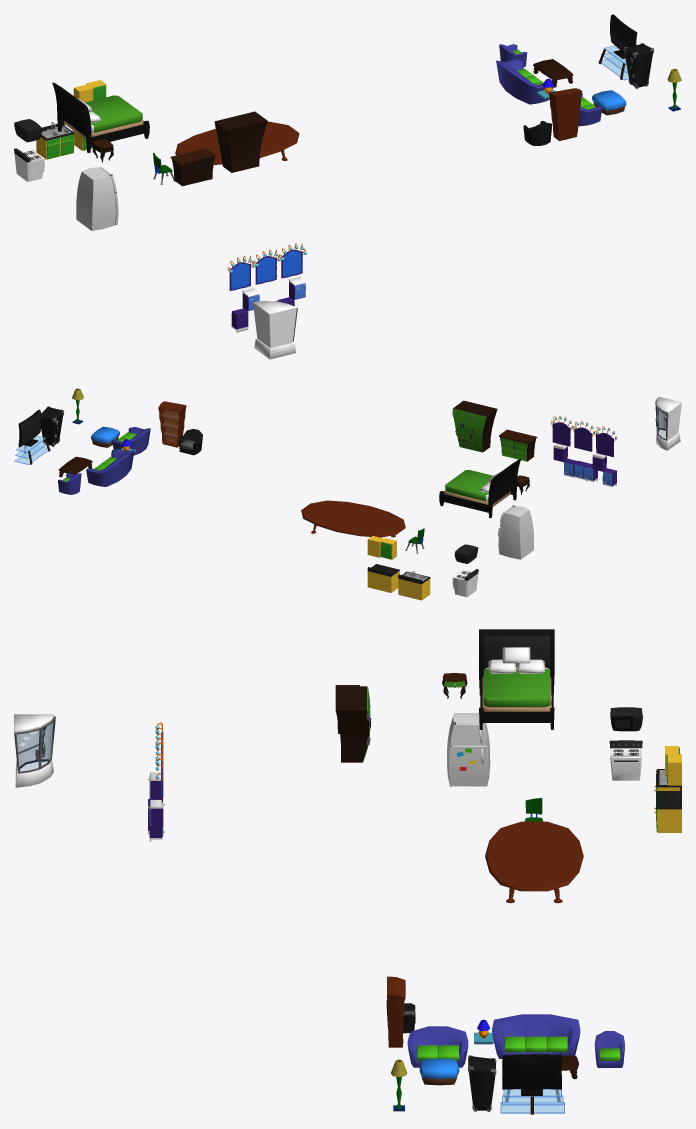
File: TestFBXforToonShader.FBX
3 renders of one model, top to bottom at view 1: azimuth 30°, elevation 25°; view 2: azimuth 150°, elevation 25°; view 3: azimuth 270°, elevation 25°, orthographic. The views are drawn at different scales.
Visible parts, largest first — view 1: Box327, Projectile_Large_MasterBedRoom_Closet00, Projectile_Large_Kitchen_Refrigerator00, Projectile_Bathroom_Shower_Corner, Projectile_Large_Kitchen_Table00, Projectile_Large_LivingRoom_Couch00, Projectile_Medium_Anywhere_BoolShelf02, Projectile_Medium_MasterBedRoom_Dresser02, Projectile_Medium_Kitchen_Cupboard_sink, Projectile_Medium_LivingRoom_Speaker00, Projectile_Large_Kitchen_Stove00, Projectile_Medium_LivingRoom_TV00 (+7 smaller); view 2: Projectile_Large_Kitchen_Table00, Box327, Projectile_Large_MasterBedRoom_Closet00, Projectile_Large_Kitchen_Refrigerator00, Projectile_Bathroom_Shower_Corner, Projectile_Large_LivingRoom_Couch00, Projectile_Medium_Anywhere_BoolShelf02, Projectile_Medium_MasterBedRoom_Dresser02, Projectile_Medium_Kitchen_Cupboard_sink, Projectile_Medium_LivingRoom_Speaker00, Projectile_Large_LivingRoom_Sofa00, Projectile_Medium_LivingRoom_TV00 (+13 smaller); view 3: Box327, Projectile_Large_Kitchen_Table00, Projectile_Large_LivingRoom_Couch00, Projectile_Large_Kitchen_Refrigerator00, Projectile_Bathroom_Shower_Corner, Projectile_Large_MasterBedRoom_Closet00, Projectile_Medium_LivingRoom_TV00, Projectile_Large_LivingRoom_Sofa00, Projectile_Large_LivingRoom_TVStand00, Projectile_Medium_LivingRoom_Speaker00, Projectile_Large_Kitchen_Stove00, Projectile_Medium_Anywhere_BoolShelf02 (+4 smaller).
Part boxes in pixels (x1,y1,x2,y2): Box327: [52, 82, 149, 152]; Projectile_Large_MasterBedRoom_Closet00: [214, 111, 267, 172]; Projectile_Large_Kitchen_Refrigerator00: [76, 167, 118, 230]; Projectile_Bathroom_Shower_Corner: [253, 301, 297, 359]; Projectile_Large_Kitchen_Table00: [175, 121, 299, 164]; Projectile_Large_LivingRoom_Couch00: [496, 59, 552, 104]; Projectile_Medium_Anywhere_BoolShelf02: [548, 88, 582, 140]; Projectile_Medium_MasterBedRoom_Dresser02: [170, 148, 216, 186]; Projectile_Medium_Kitchen_Cupboard_sink: [36, 122, 74, 159]; Projectile_Medium_LivingRoom_Speaker00: [623, 43, 653, 88]; Projectile_Large_Kitchen_Stove00: [14, 148, 44, 181]; Projectile_Medium_LivingRoom_TV00: [610, 14, 637, 58]; Projectile_Large_Kitchen_Table00: [301, 500, 405, 537]; Box327: [439, 459, 521, 518]; Projectile_Large_MasterBedRoom_Closet00: [452, 400, 497, 452]; Projectile_Large_Kitchen_Refrigerator00: [498, 505, 533, 559]; Projectile_Bathroom_Shower_Corner: [655, 396, 681, 450]; Projectile_Large_LivingRoom_Couch00: [86, 449, 134, 486]; Projectile_Medium_Anywhere_BoolShelf02: [158, 401, 186, 447]; Projectile_Medium_MasterBedRoom_Dresser02: [499, 429, 537, 461]; Projectile_Medium_Kitchen_Cupboard_sink: [398, 571, 430, 600]; Projectile_Medium_LivingRoom_Speaker00: [41, 406, 64, 446]; Projectile_Large_LivingRoom_Sofa00: [112, 427, 150, 455]; Projectile_Medium_LivingRoom_TV00: [18, 410, 41, 447]; Box327: [479, 629, 554, 729]; Projectile_Large_Kitchen_Table00: [485, 821, 583, 903]; Projectile_Large_LivingRoom_Couch00: [492, 1014, 580, 1058]; Projectile_Large_Kitchen_Refrigerator00: [447, 713, 490, 786]; Projectile_Bathroom_Shower_Corner: [14, 714, 55, 787]; Projectile_Large_MasterBedRoom_Closet00: [335, 686, 371, 762]; Projectile_Medium_LivingRoom_TV00: [502, 1054, 561, 1095]; Projectile_Large_LivingRoom_Sofa00: [407, 1026, 468, 1067]; Projectile_Large_LivingRoom_TVStand00: [500, 1089, 564, 1114]; Projectile_Medium_LivingRoom_Speaker00: [468, 1055, 496, 1111]; Projectile_Large_Kitchen_Stove00: [609, 740, 642, 780]; Projectile_Medium_Anywhere_BoolShelf02: [387, 976, 405, 1047].
Bounding box in the file's own units: 4647 × 1062 × 3817.
